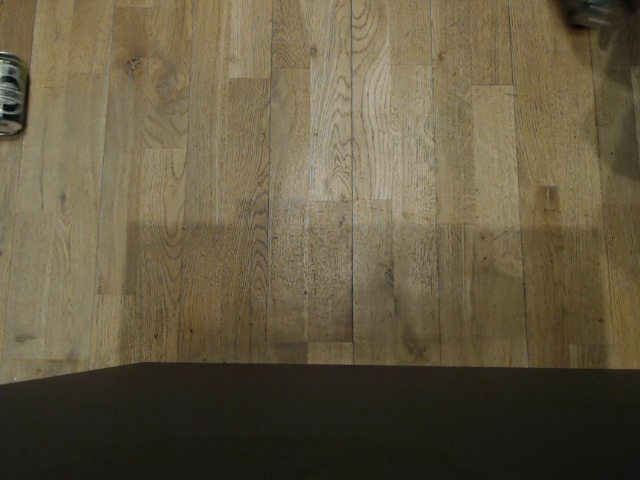beer: (0, 48, 32, 142)
